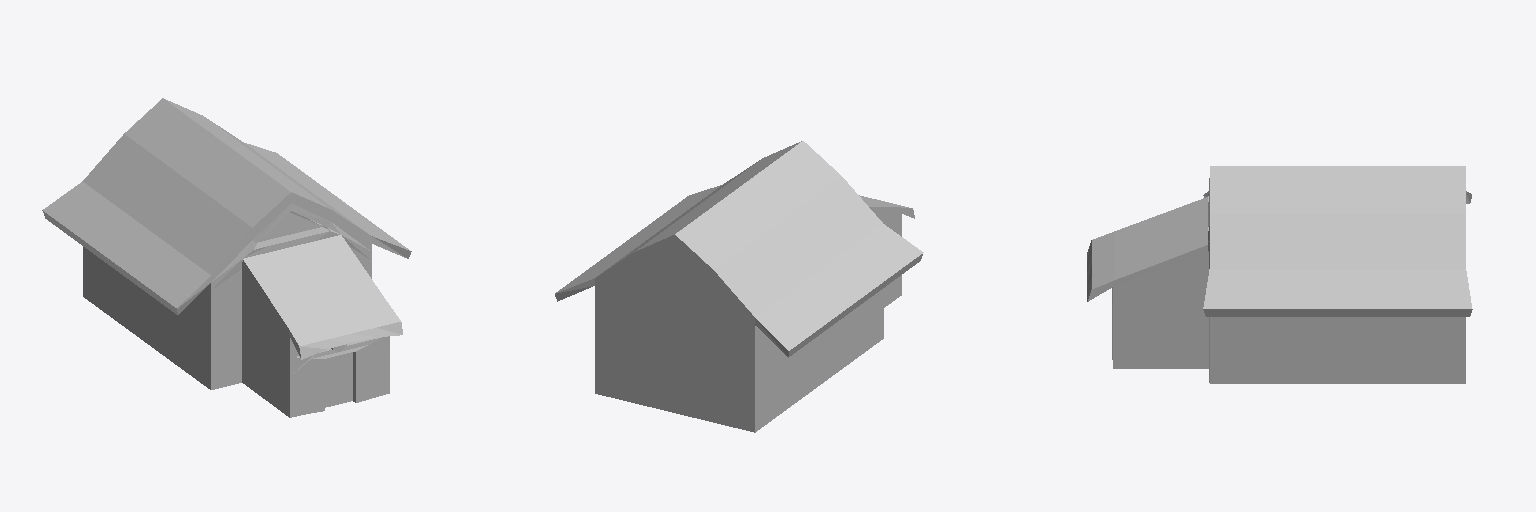
File: Building8.obj
The picture shows the model from 3 angles: view 1: azimuth 30°, elevation 25°; view 2: azimuth 150°, elevation 25°; view 3: azimuth 270°, elevation 25°; orthographic projection.
Visible parts, largest first — view 1: Building8_Cube.008; view 2: Building8_Cube.008; view 3: Building8_Cube.008.
Part boxes in pixels (left/top/right/bottom): Building8_Cube.008: left=42, top=98, right=411, bottom=417; Building8_Cube.008: left=555, top=141, right=923, bottom=432; Building8_Cube.008: left=1087, top=166, right=1472, bottom=383.
Bounding box in the file's own units: 11.04 × 8.06 × 15.68.